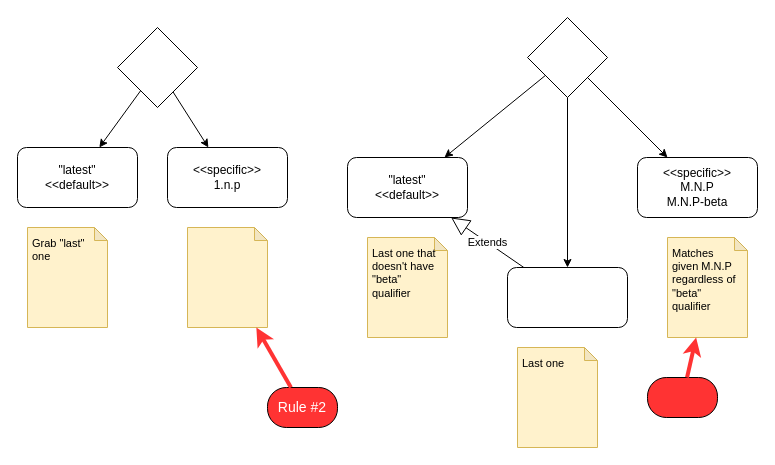
This 775x465 diagram has some shape labels left out. The centre of each missing label's shape, as x and y in pixels:
"beta": (x=567, y=297)
Minecraft version: (x=157, y=67)
NeoForge version: (x=567, y=57)
Only ones where M.N match n.p: (x=227, y=277)
Rule #1: (x=682, y=397)
